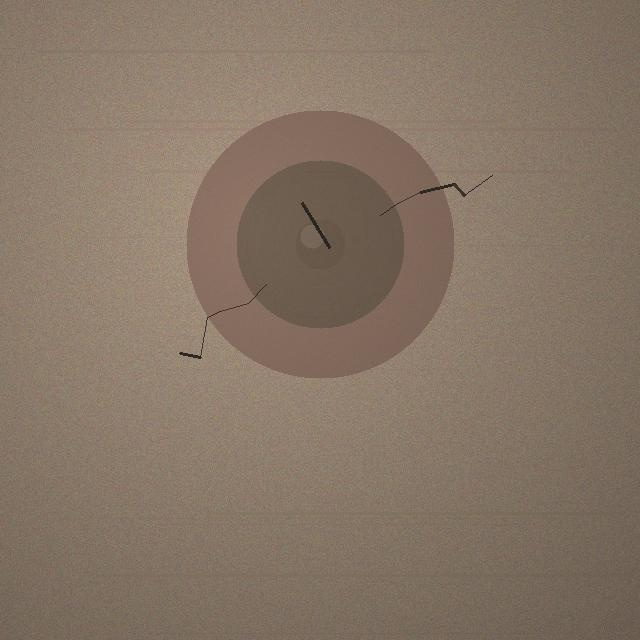crack: (186, 110, 454, 378)
